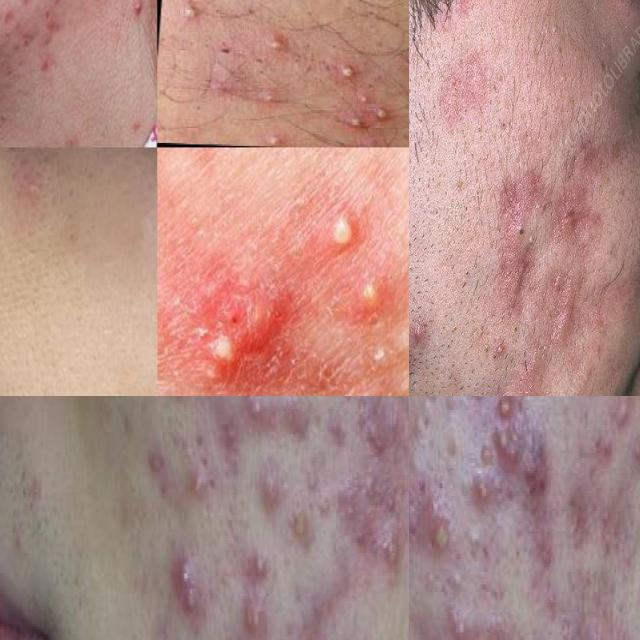acne_scars: (0, 0, 20, 28)
comedone: (5, 155, 58, 225), (464, 514, 487, 569), (506, 213, 530, 257)
crystanlline: (343, 409, 402, 514), (496, 435, 554, 511), (169, 548, 213, 624), (409, 470, 423, 594)
cystic: (129, 0, 145, 24)
folliculitis: (259, 29, 292, 61), (174, 0, 206, 26), (331, 61, 364, 86), (258, 89, 285, 112), (259, 132, 295, 148), (374, 105, 393, 121), (349, 114, 366, 129)
papule: (602, 396, 640, 443), (358, 132, 393, 148)
pustule: (322, 204, 363, 258), (349, 270, 387, 322), (184, 455, 222, 505), (381, 525, 404, 604), (467, 466, 495, 508), (251, 530, 272, 584), (430, 504, 448, 566), (242, 601, 269, 640), (288, 505, 308, 553), (448, 607, 474, 640), (244, 396, 270, 427), (494, 396, 517, 427)
sebo-crystan-conglo: (175, 254, 302, 390)
